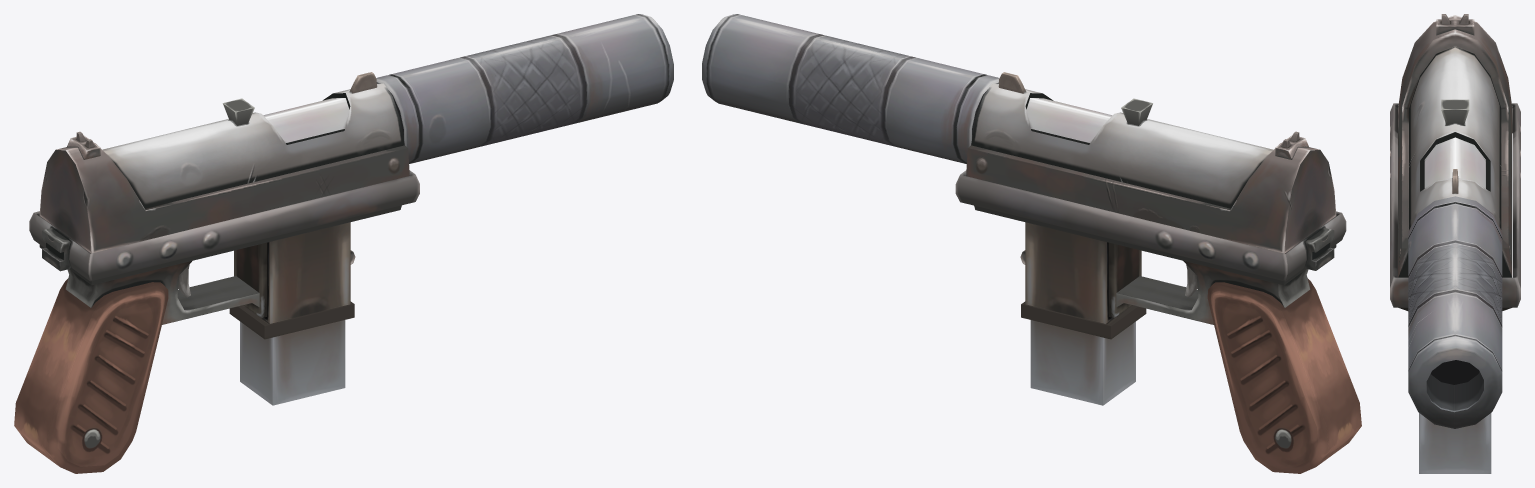
File: old_stylized_agent_pistol_handpainted.glb
3 renders of one model, left to right at view 1: azimuth 30°, elevation 25°; view 2: azimuth 150°, elevation 25°; view 3: azimuth 270°, elevation 25°, orthographic. The views are drawn at different scales.
Visible parts, largest first — view 1: Pistol.001; view 2: Pistol.001; view 3: Pistol.001.
Boxes of the visible parts, x1,y1,x2,y2 form: Pistol.001: (14,14,673,473); Pistol.001: (702,14,1361,473); Pistol.001: (1390,14,1520,473).
Size of the model in its own units: 4.31 by 2.14 by 0.7113.
1 material, 1 textured.
